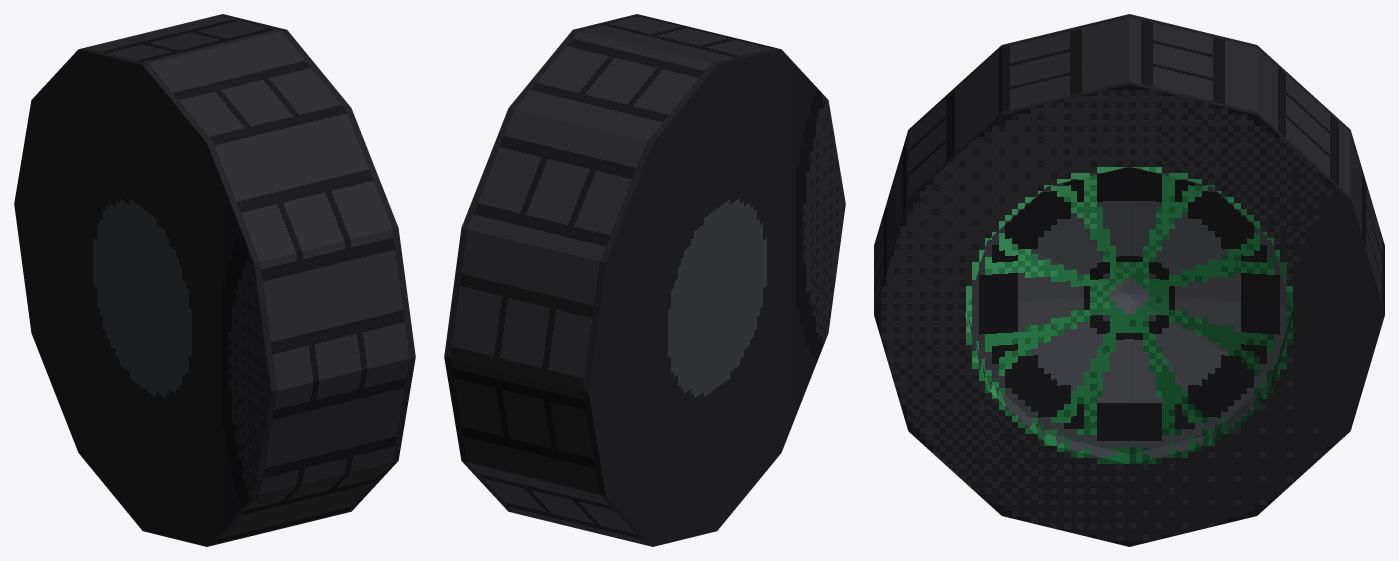
File: wheel_eight.glb
3 renders of one model, left to right at view 1: azimuth 30°, elevation 25°; view 2: azimuth 150°, elevation 25°; view 3: azimuth 270°, elevation 25°, orthographic.
Visible parts, largest first — view 1: wheel_eight; view 2: wheel_eight; view 3: wheel_eight.
Part boxes in pixels (x1,y1,x2,y2): wheel_eight: (14, 14, 415, 546); wheel_eight: (444, 14, 845, 546); wheel_eight: (874, 14, 1384, 546).
Bounding box in the file's own units: 0.205 × 0.6319 × 0.6319.
1 material, 1 textured.
